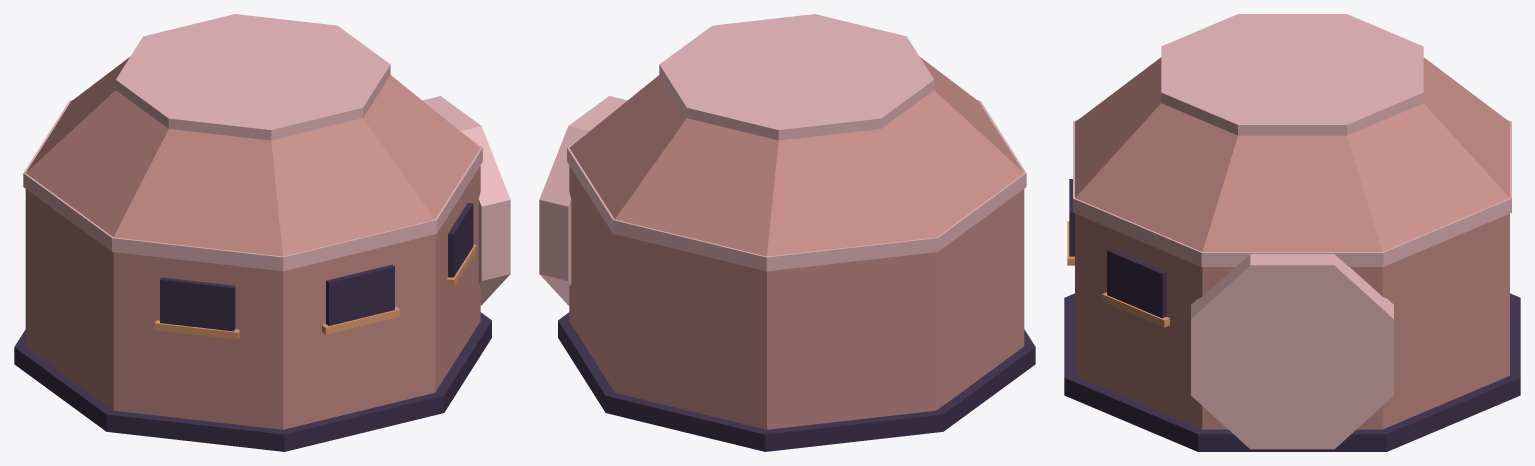
The model's file is base_quarters.obj.
3 renders of one model, left to right at view 1: azimuth 30°, elevation 25°; view 2: azimuth 150°, elevation 25°; view 3: azimuth 270°, elevation 25°, orthographic. The views are drawn at different scales.
Visible parts, largest first — view 1: base_quarters_dusty_rose, base_quarters_pale_pink, base_quarters_deep_purple, base_quarters_warm_orange; view 2: base_quarters_dusty_rose, base_quarters_pale_pink, base_quarters_deep_purple; view 3: base_quarters_dusty_rose, base_quarters_pale_pink, base_quarters_deep_purple, base_quarters_warm_orange.
Part boxes in pixels (x1=…): base_quarters_dusty_rose: x1=25, y1=57, x2=480, y2=429; base_quarters_pale_pink: x1=23, y1=14, x2=510, y2=305; base_quarters_deep_purple: x1=14, y1=202, x2=491, y2=451; base_quarters_warm_orange: x1=154, y1=244, x2=476, y2=339; base_quarters_dusty_rose: x1=569, y1=57, x2=1024, y2=429; base_quarters_pale_pink: x1=539, y1=14, x2=1026, y2=305; base_quarters_deep_purple: x1=558, y1=312, x2=1035, y2=451; base_quarters_dusty_rose: x1=1075, y1=57, x2=1509, y2=429; base_quarters_pale_pink: x1=1073, y1=14, x2=1511, y2=449; base_quarters_deep_purple: x1=1064, y1=179, x2=1520, y2=451; base_quarters_warm_orange: x1=1067, y1=221, x2=1169, y2=327.
Size of the model in its own units: 4.84 by 3.22 by 4.66.
